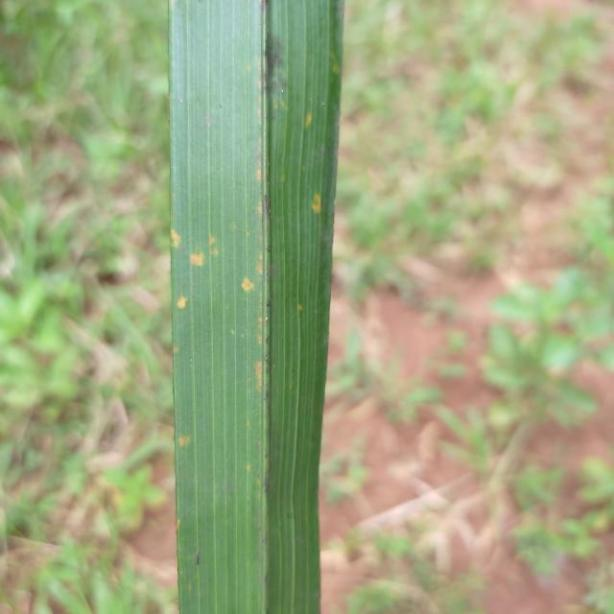Kalium: (170, 0, 346, 614)
